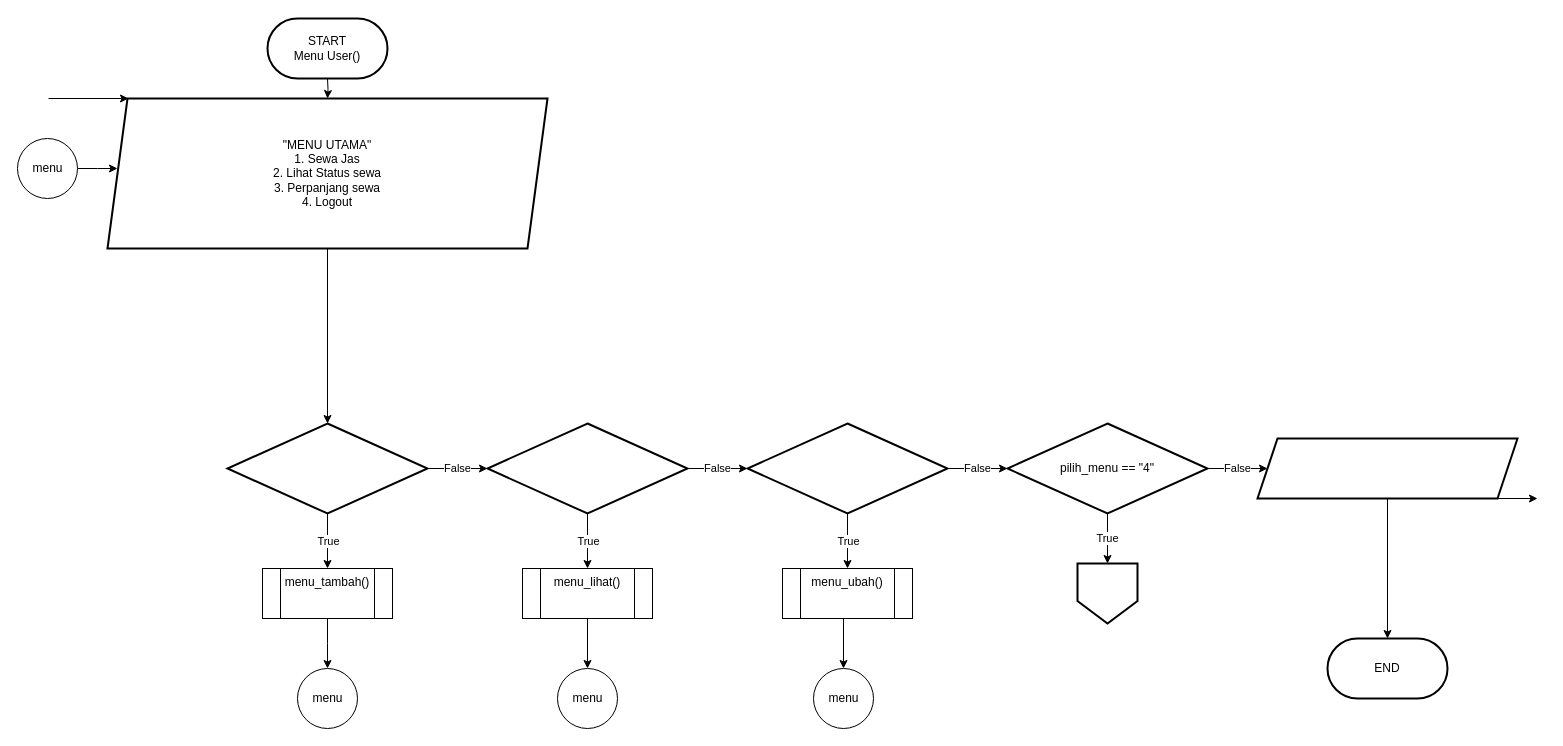
The diagram is 1563 pixels wide and 746 high, and some of its shapes have lost their labels. Here are the shapes that lost their labels. From the top down, the centre of each, then its label:
point (327, 468): pilih_menu == "1"
point (587, 468): pilih_menu == "2"
point (847, 468): pilih_menu == "3"
point (1387, 468): "Pilihan menu tidak valid!"
point (1107, 593): Balik awal
